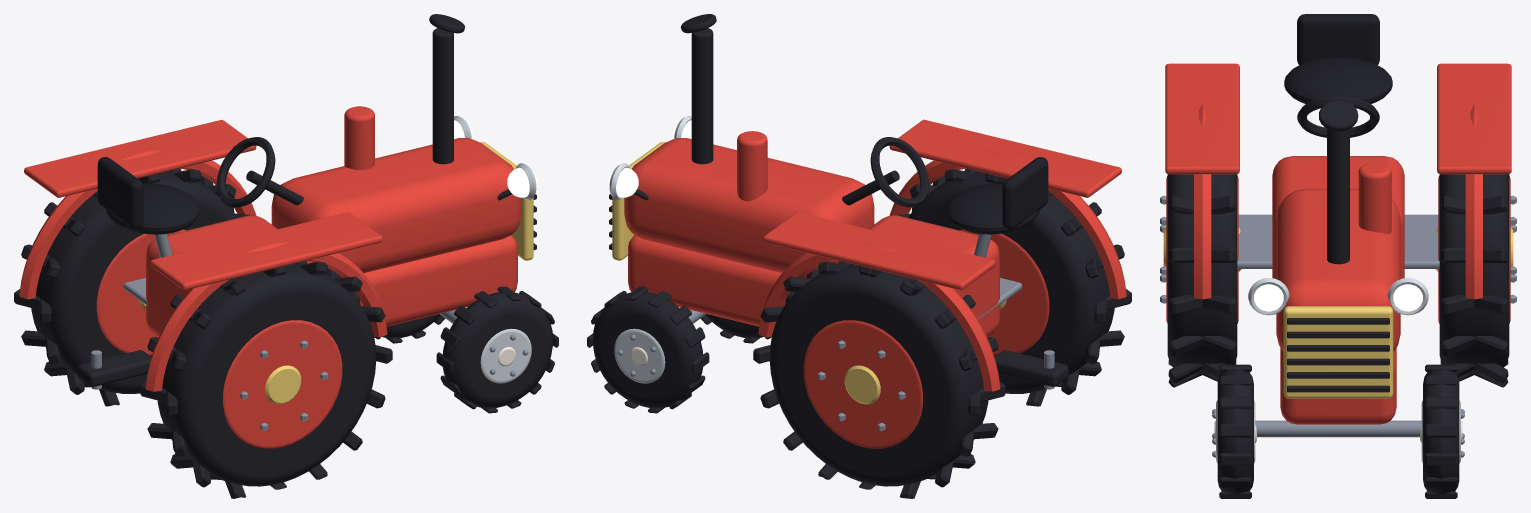
File: tractor.glb
The picture shows the model from 3 angles, left to right: view 1: azimuth 30°, elevation 25°; view 2: azimuth 150°, elevation 25°; view 3: azimuth 270°, elevation 25°; orthographic projection. The views are drawn at different scales.
Visible parts, largest first — view 1: tractor; view 2: tractor; view 3: tractor.
Part boxes in pixels (<box>): tractor: <box>14,14,558,498</box>; tractor: <box>587,14,1131,498</box>; tractor: <box>1160,14,1516,498</box>.
Size of the model in its own units: 3.23 by 2.55 by 2.15.
Materials: 1 (1 with a texture image).
